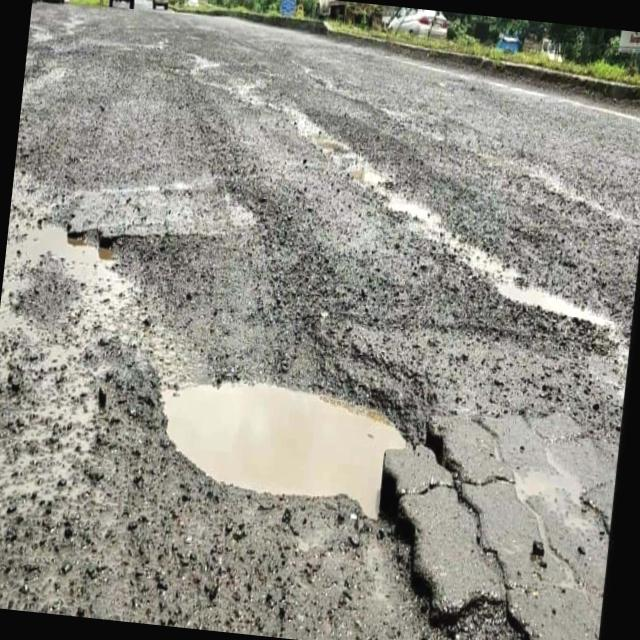bad-road: (146, 368, 416, 524)
